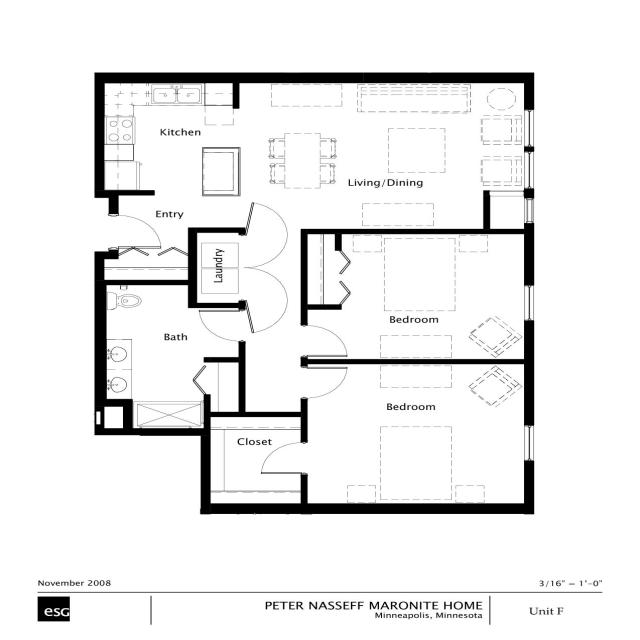Door: (106, 212, 164, 250), (197, 307, 248, 346), (299, 322, 350, 358), (258, 441, 311, 475), (302, 364, 348, 402)
OuterWall: (100, 78, 529, 509)
Wall: (304, 231, 529, 232)
Window: (521, 282, 536, 322), (523, 150, 536, 191), (522, 110, 534, 147), (524, 195, 536, 226)
window: (523, 423, 536, 462)
